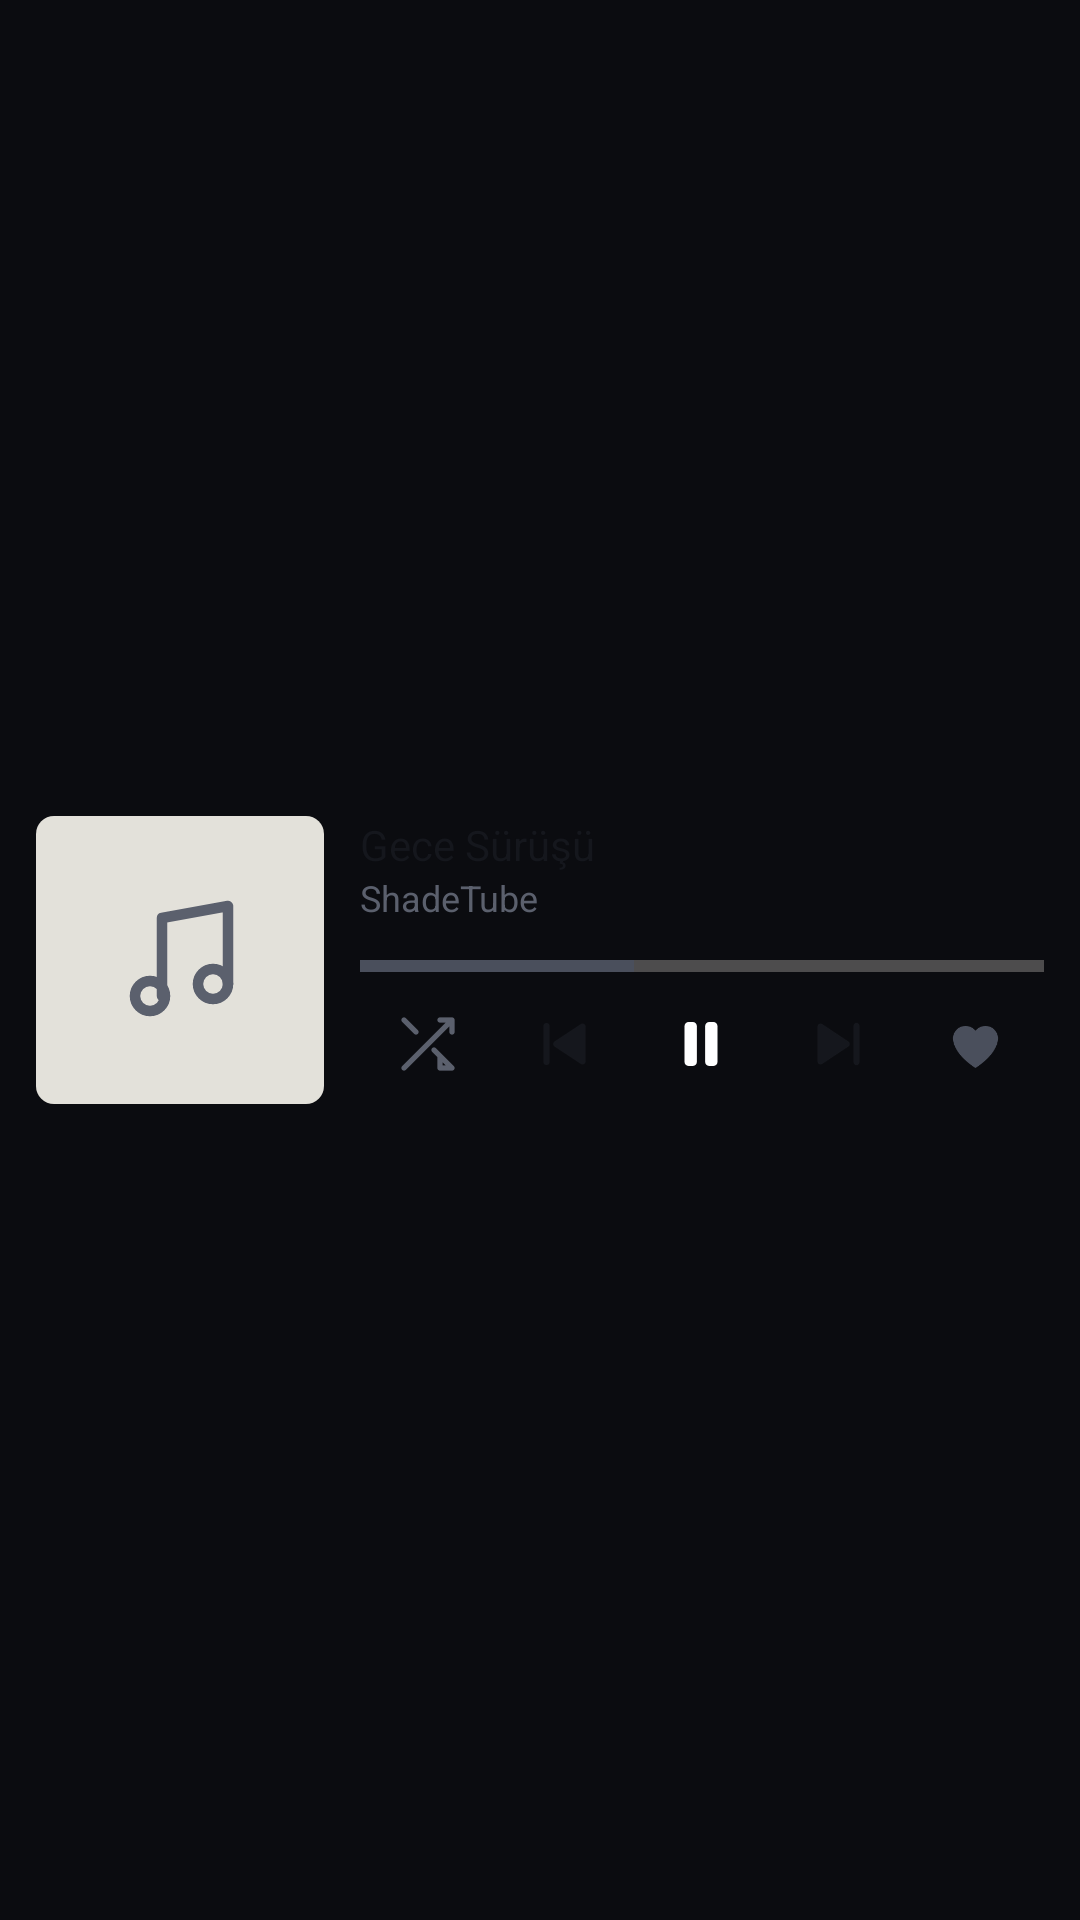

Icons on this 1080px x 1920px Android screen, each with its box as (x1, y1, x2, y2):
heart: (953, 1026, 998, 1068)
music note: (129, 900, 234, 1017)
pause: (684, 1022, 718, 1066)
shuffle: (401, 1017, 455, 1071)
